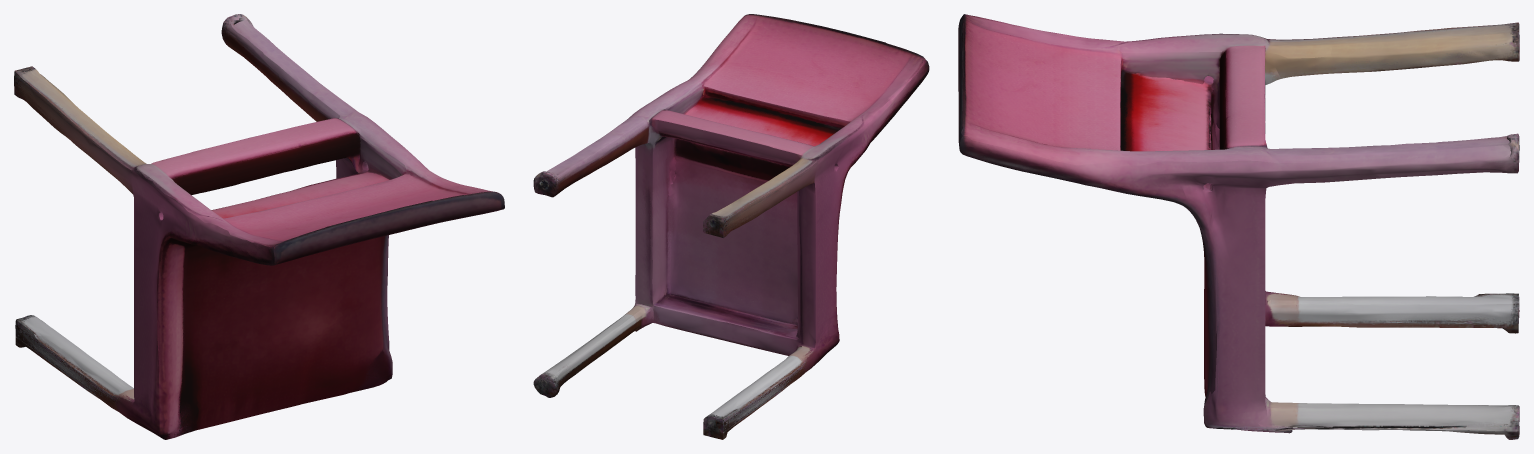
The model's file is out_sim.glb.
3 renders of one model, left to right at view 1: azimuth 30°, elevation 25°; view 2: azimuth 150°, elevation 25°; view 3: azimuth 270°, elevation 25°, orthographic. The views are drawn at different scales.
Parts seen in each view (by area): view 1: world; view 2: world; view 3: world.
Part boxes in pixels (<box>): world: <box>14,14,504,439</box>; world: <box>533,14,929,439</box>; world: <box>958,14,1519,439</box>.
Bounding box in the file's own units: 0.5336 × 0.6279 × 1.
Materials: 1 (1 with a texture image).
